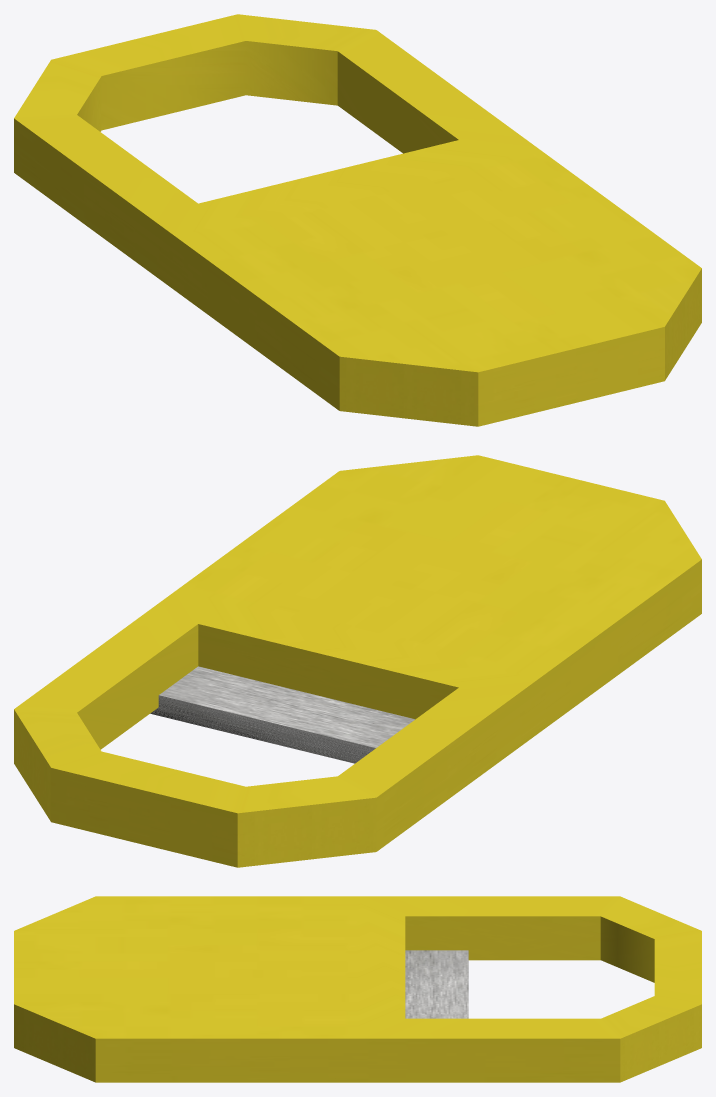
Rendered from opener2.FBX.
3 views of the same model, one above another, from view 1: azimuth 30°, elevation 25°; view 2: azimuth 150°, elevation 25°; view 3: azimuth 270°, elevation 25° (orthographic). The views are drawn at different scales.
Visible parts, largest first — view 1: Box001; view 2: Box001, Box002; view 3: Box001, Box002.
Part boxes in pixels (x1=…): Box001: x1=14, y1=14, x2=701, y2=426; Box001: x1=14, y1=455, x2=701, y2=867; Box002: x1=150, y1=666, x2=414, y2=763; Box001: x1=14, y1=896, x2=701, y2=1082; Box002: x1=405, y1=950, x2=468, y2=1018.
Size of the model in its own units: 36.31 by 6.03 by 74.09.
Materials: 2 (2 with a texture image).
